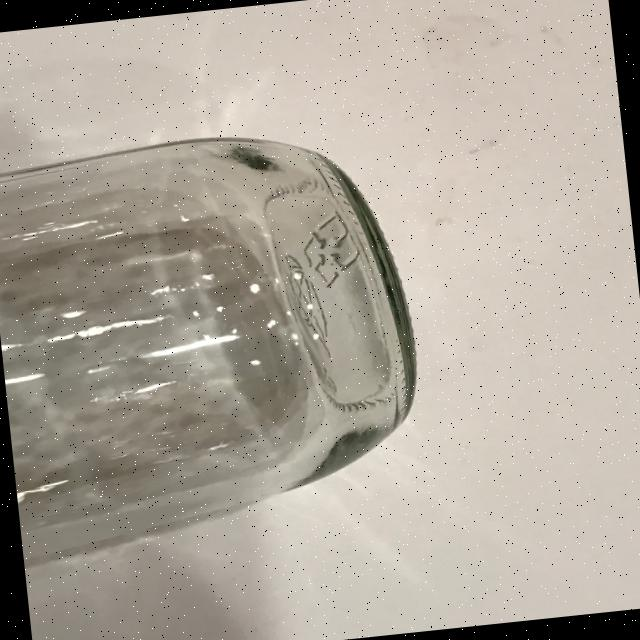glass: (0, 116, 434, 566)
